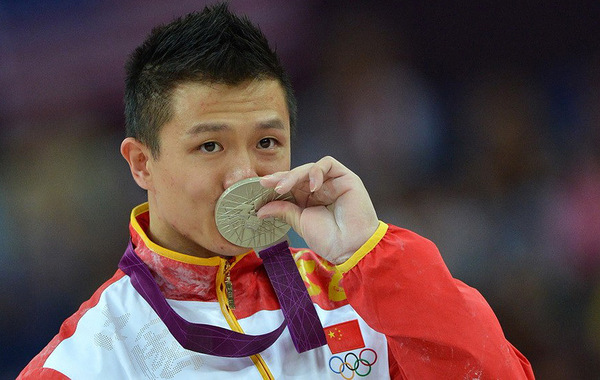face: (168, 79, 296, 255)
